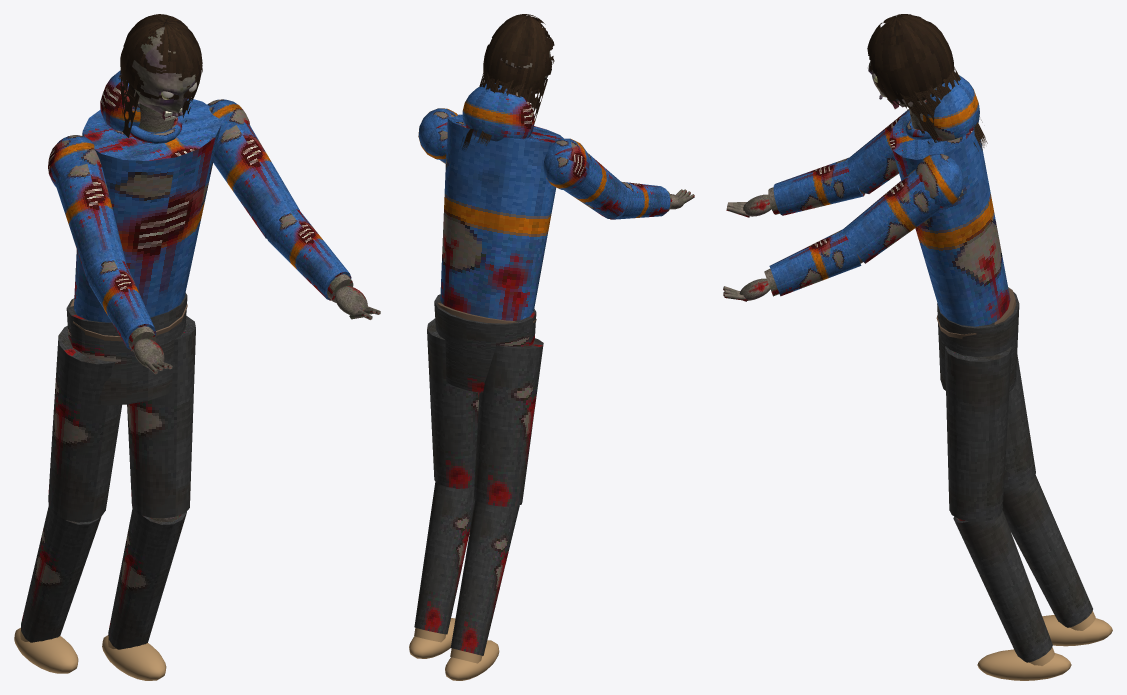
File: Zombie_146.glb
3 renders of one model, left to right at view 1: azimuth 30°, elevation 25°; view 2: azimuth 150°, elevation 25°; view 3: azimuth 270°, elevation 25°, orthographic. The views are drawn at different scales.
Parts seen in each view (by area): view 1: Zombie_146, object 12, object 4, object 44, object 18, object 45, object 13, object 5; view 2: Zombie_146, object 45, object 4, object 44; view 3: Zombie_146, object 45, object 12, object 4, object 44, object 46.
Part boxes in pixels (x1,y1,x2,y2): Zombie_146: [14, 70, 299, 680]; object 12: [266, 209, 351, 300]; object 4: [87, 258, 156, 350]; object 44: [127, 14, 202, 87]; object 18: [132, 27, 195, 115]; object 45: [120, 14, 201, 109]; object 13: [335, 286, 367, 315]; object 5: [134, 338, 164, 367]; Zombie_146: [409, 83, 628, 680]; object 45: [483, 16, 552, 95]; object 4: [609, 181, 670, 219]; object 44: [489, 14, 554, 64]; Zombie_146: [843, 75, 1112, 680]; object 45: [870, 15, 954, 105]; object 12: [769, 229, 861, 296]; object 4: [773, 157, 865, 215]; object 44: [867, 14, 935, 73]; object 46: [895, 91, 943, 143].
Size of the model in its own units: 0.6762 by 2.03 by 1.11.
Materials: 16 (6 with a texture image).
